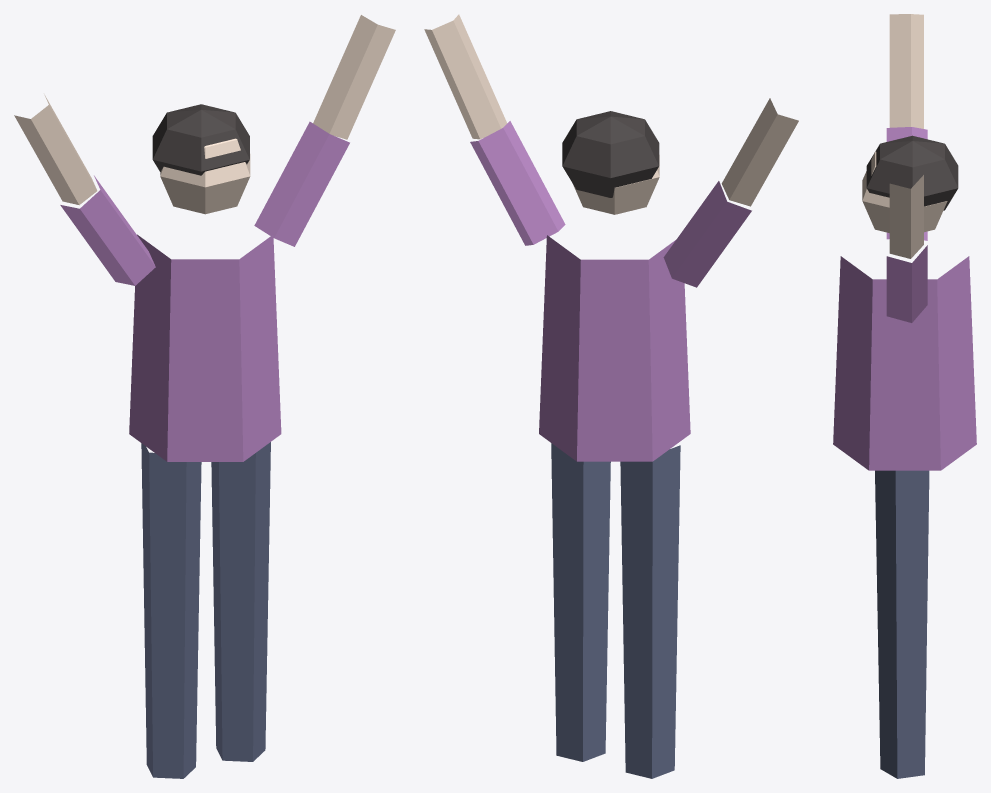
File: person_cheer.glb
The picture shows the model from 3 angles, left to right: view 1: azimuth 30°, elevation 25°; view 2: azimuth 150°, elevation 25°; view 3: azimuth 270°, elevation 25°; orthographic projection. The views are drawn at different scales.
Parts seen in each view (by area): view 1: person_cheer; view 2: person_cheer; view 3: person_cheer.
Part boxes in pixels (bbox=[...]): person_cheer: bbox=[14, 15, 395, 778]; person_cheer: bbox=[424, 14, 798, 778]; person_cheer: bbox=[833, 14, 976, 778].
Bounding box in the file's own units: 1.08 × 1.94 × 0.38.
